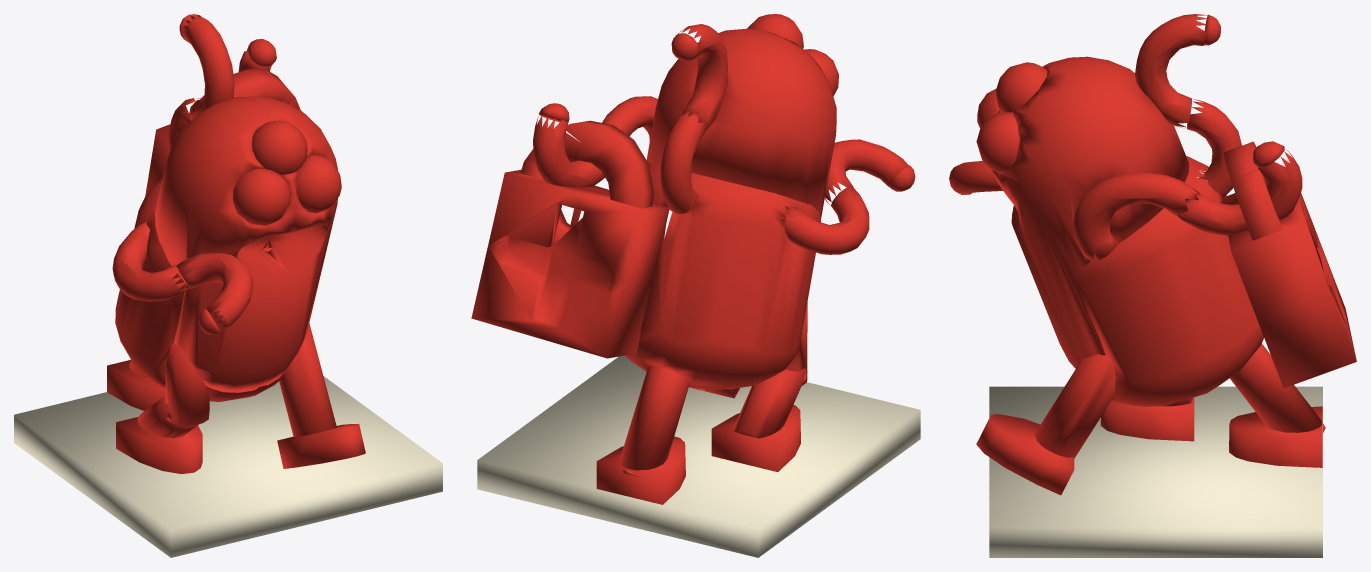
Rendered from crew_medic.glb.
3 views of the same model, side by side, from view 1: azimuth 30°, elevation 25°; view 2: azimuth 150°, elevation 25°; view 3: azimuth 270°, elevation 25° (orthographic). The views are drawn at different scales.
Visible parts, largest first — view 1: figura, basetta; view 2: figura, basetta; view 3: figura, basetta.
Part boxes in pixels (x1=…): figura: x1=107, y1=14, x2=365, y2=473; basetta: x1=14, y1=376, x2=442, y2=557; figura: x1=471, y1=14, x2=915, y2=504; basetta: x1=477, y1=355, x2=920, y2=557; figura: x1=949, y1=14, x2=1356, y2=495; basetta: x1=989, y1=386, x2=1322, y2=557.
Size of the model in its own units: 0.02 by 0.0308 by 0.0244.
